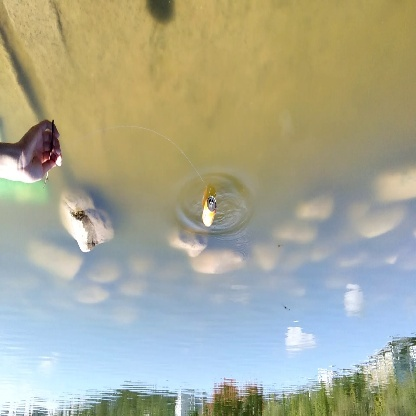bottle: (200, 196, 223, 228)
